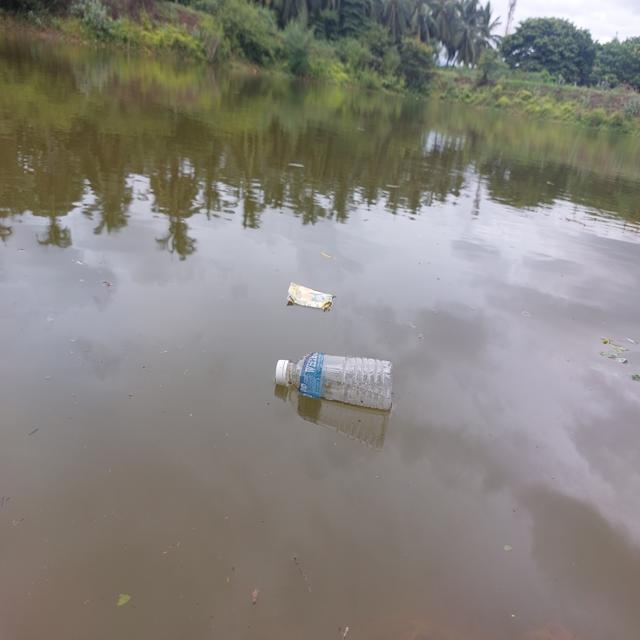paper: (280, 272, 337, 326)
waterbottle: (258, 344, 397, 425)
